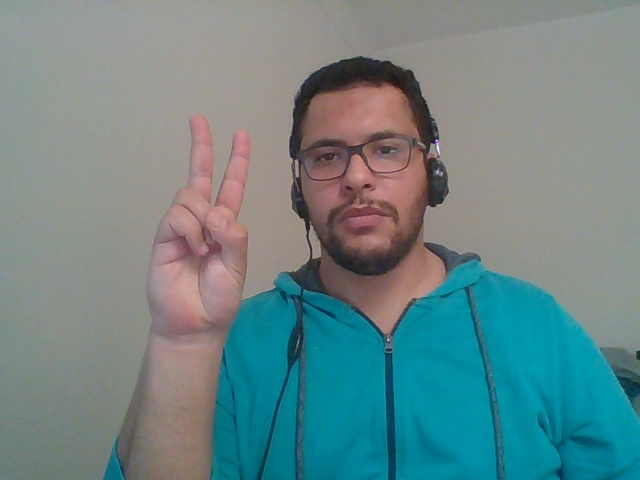vectory: (130, 91, 268, 357)
